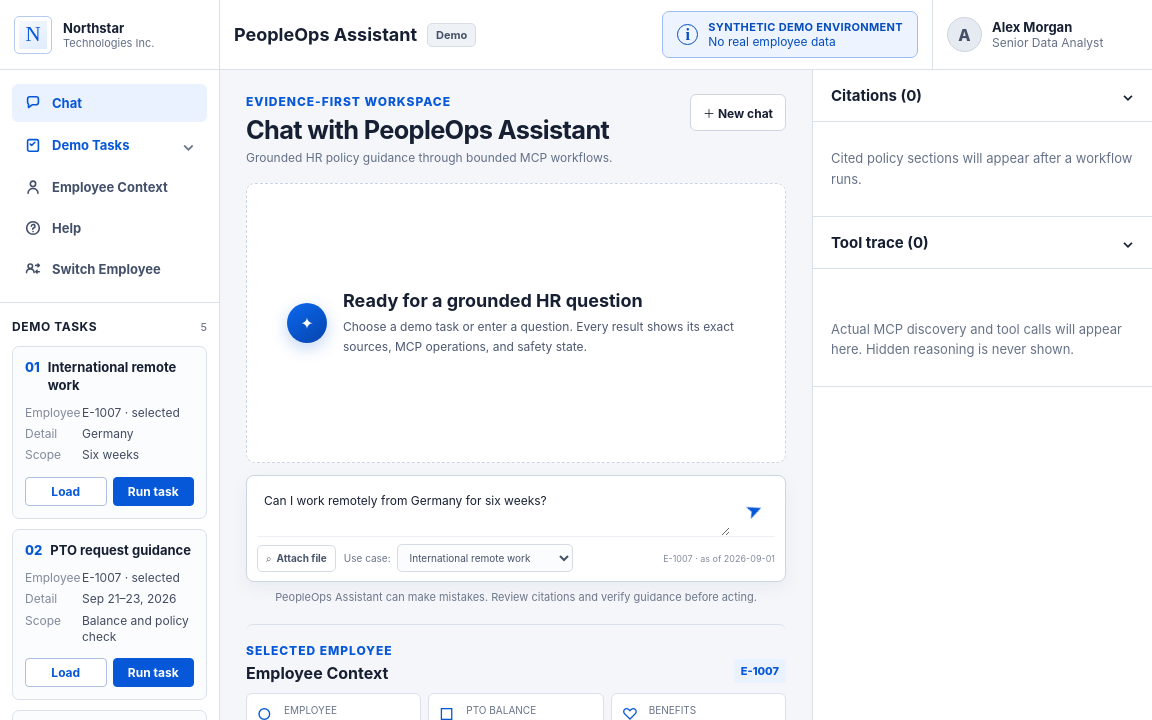
Scenario: PeopleOps Assistant Phase 8 evidence-first interface › runs a cited workflow and exposes sources, trace, and both identifiers
What coordinates should you click on to do the following:
click the button "Send question ➤"
I would click on:
 (754, 510)
Its box is [732, 488, 776, 532].
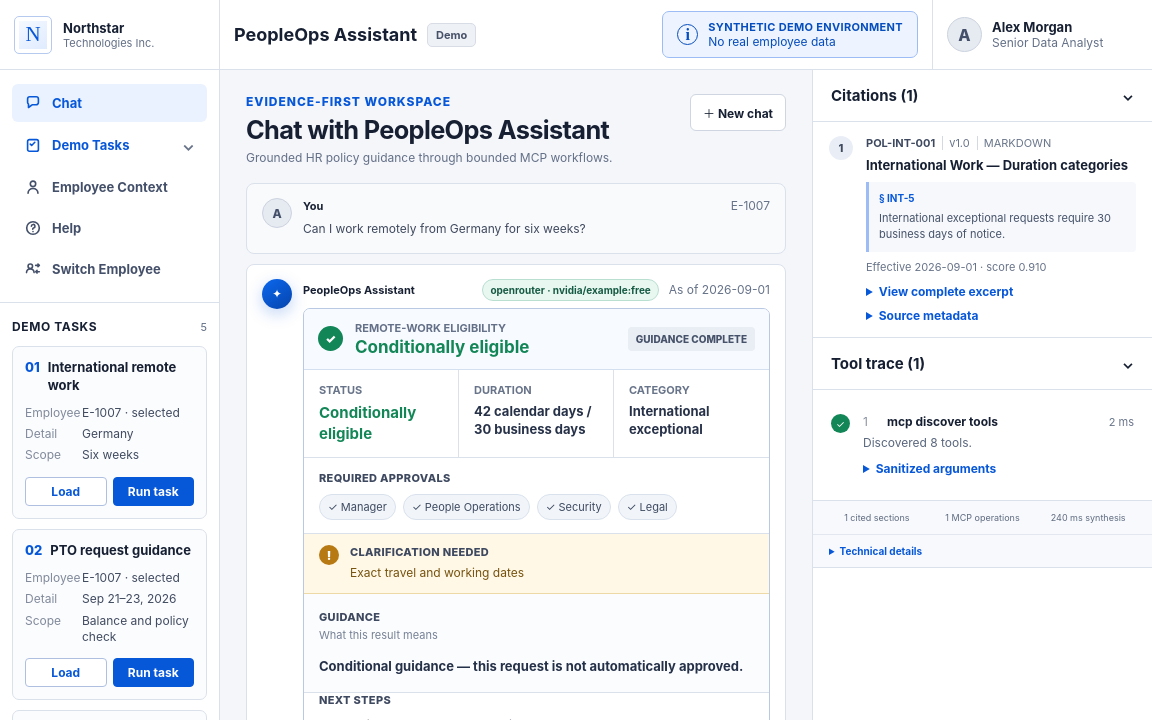
Expected: the text "not automatically approved" is shown, [319, 658, 743, 674]
Expected: the text "42 calendar days / 30 business days" is shown, [474, 402, 598, 438]
Expected: the text "International exceptional" is shown, [629, 403, 710, 437]
